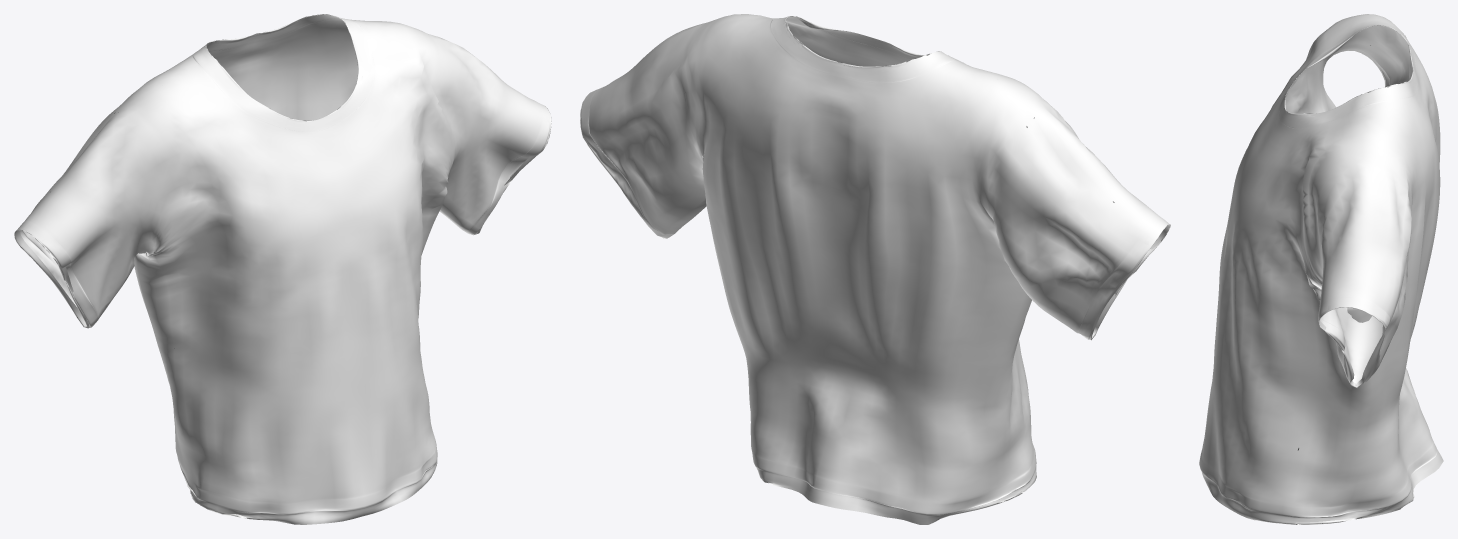
File: Petite_Tshirt_S.glb
3 renders of one model, left to right at view 1: azimuth 30°, elevation 25°; view 2: azimuth 150°, elevation 25°; view 3: azimuth 270°, elevation 25°, orthographic. The views are drawn at different scales.
Visible parts, largest first — view 1: TShirt_for_Genesis.008; view 2: TShirt_for_Genesis.008; view 3: TShirt_for_Genesis.008.
Boxes of the visible parts, <box> form: TShirt_for_Genesis.008: <box>14,14,551,524</box>; TShirt_for_Genesis.008: <box>580,14,1170,524</box>; TShirt_for_Genesis.008: <box>1199,14,1443,524</box>.
Size of the model in its own units: 13.69 by 10.52 by 5.56.
1 material, 1 textured.
